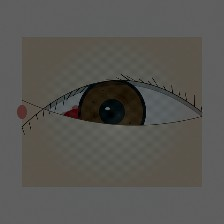hemorrhage_spot: (54, 95, 112, 142)
